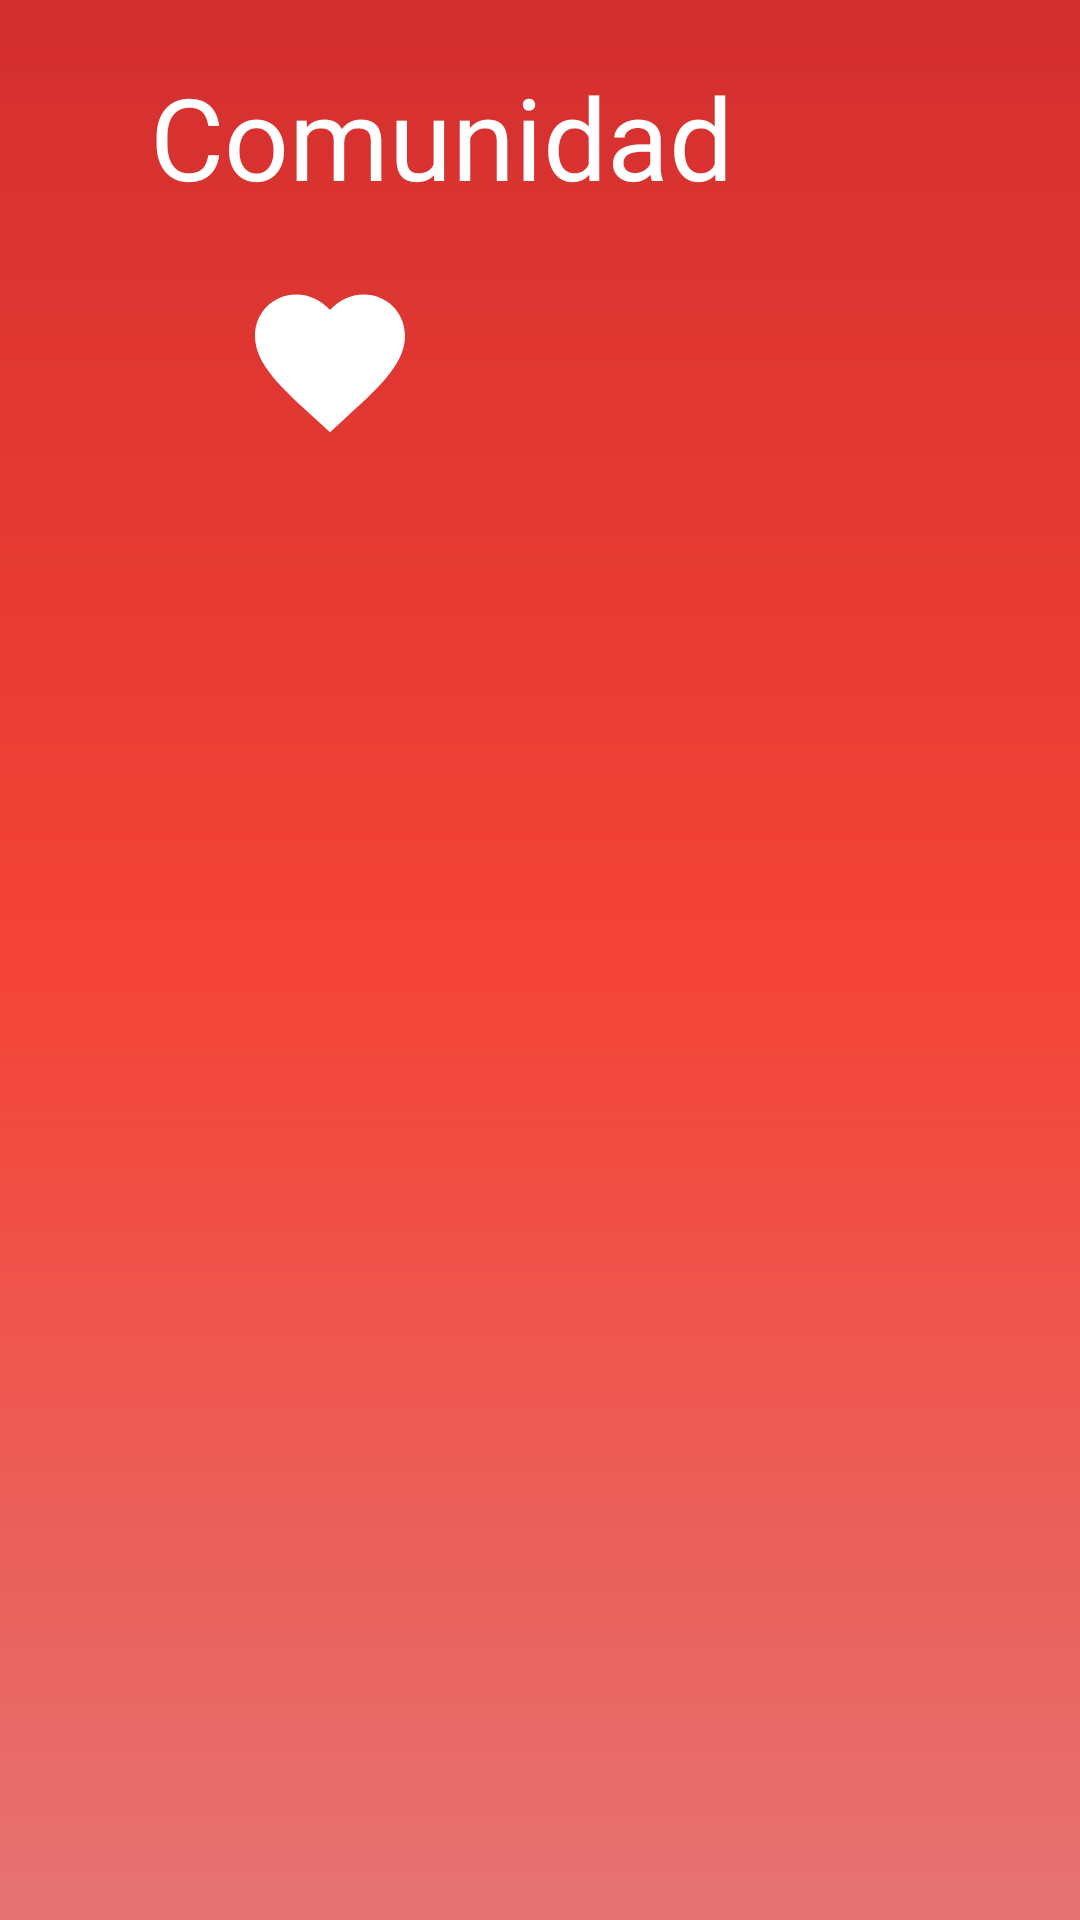

Where icons sit on this 1080 x 1920 app screen, as detection(x1, y1, x2, y2):
heart: detection(255, 294, 405, 432)
